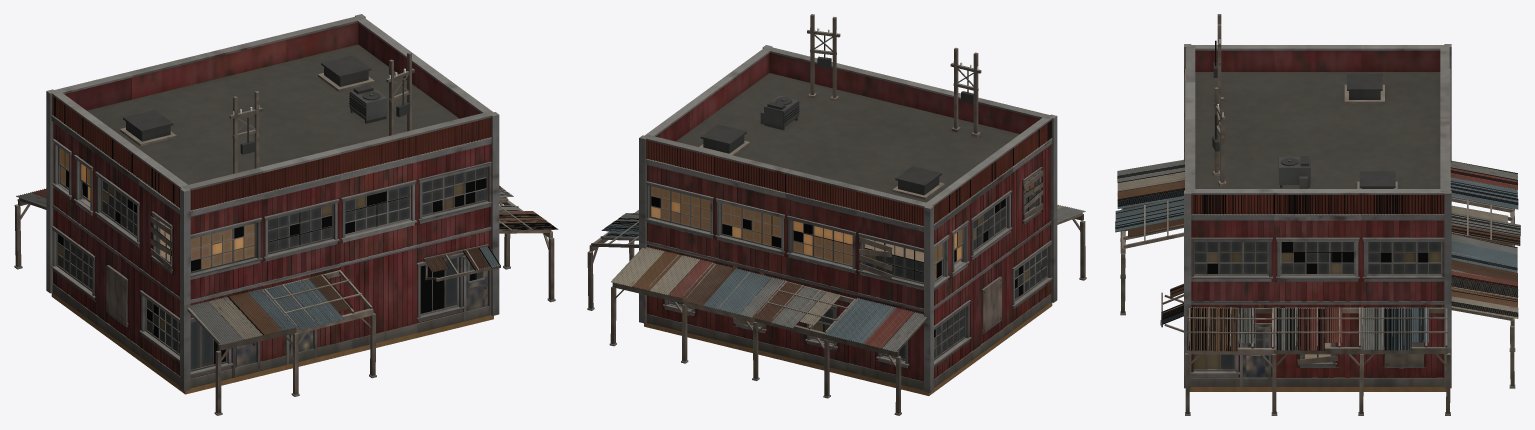
File: red_commercial.glb
3 views of the same model, side by side, from view 1: azimuth 30°, elevation 25°; view 2: azimuth 150°, elevation 25°; view 3: azimuth 270°, elevation 25° (orthographic). The views are drawn at different scales.
Visible parts, largest first — view 1: BG_RedCommercial_Web; view 2: BG_RedCommercial_Web; view 3: BG_RedCommercial_Web.
Part boxes in pixels (<box>): BG_RedCommercial_Web: <box>14,14,558,415</box>; BG_RedCommercial_Web: <box>587,14,1086,415</box>; BG_RedCommercial_Web: <box>1115,14,1520,415</box>.
Bounding box in the file's own units: 14.65 × 10 × 14.03.
Materials: 1 (1 with a texture image).
